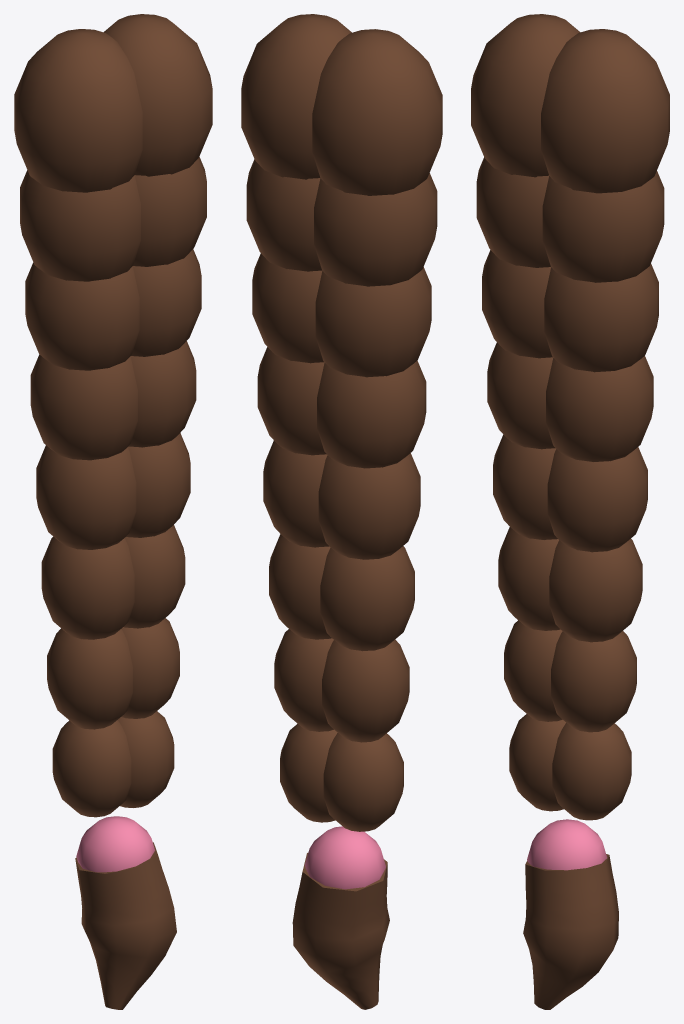
The model's file is hair_braid_sway.glb.
3 views of the same model, side by side, from view 1: azimuth 30°, elevation 25°; view 2: azimuth 150°, elevation 25°; view 3: azimuth 330°, elevation 25° (orthographic).
Parts seen in each view (by area): view 1: lock; view 2: lock; view 3: lock.
Boxes of the visible parts, bbox=[...] form: lock: bbox=[14, 14, 212, 1009]; lock: bbox=[241, 14, 442, 1009]; lock: bbox=[471, 14, 669, 1009].
Size of the model in its own units: 0.6631 by 3.46 by 0.4475.
